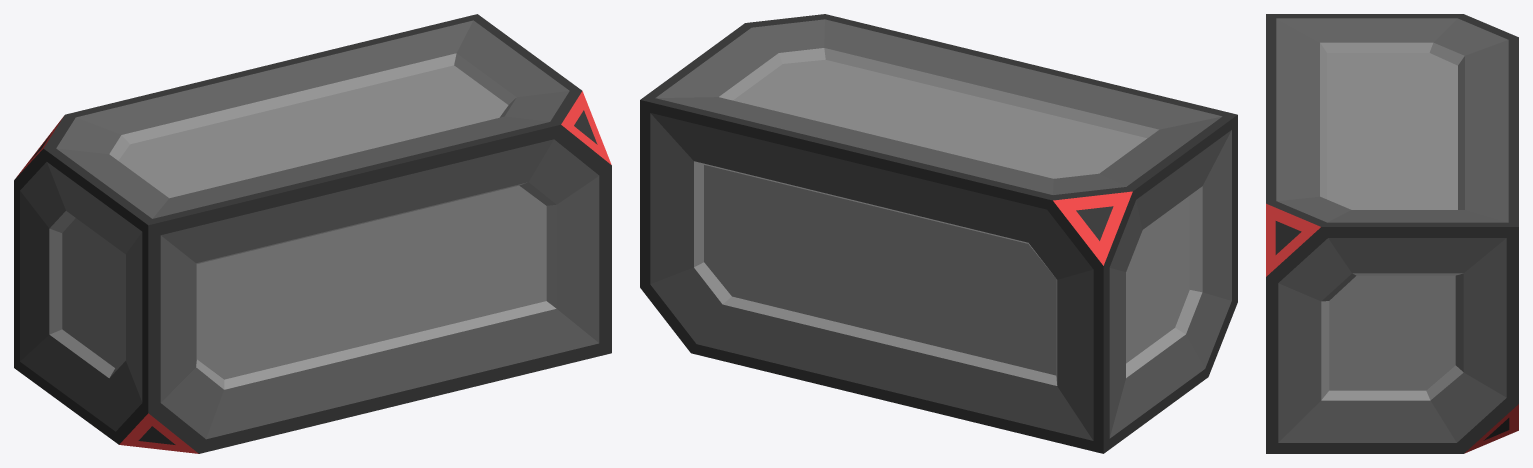
Rendered from Container_Large.fbx.
3 renders of one model, left to right at view 1: azimuth 30°, elevation 25°; view 2: azimuth 150°, elevation 25°; view 3: azimuth 270°, elevation 25°, orthographic. The views are drawn at different scales.
Visible parts, largest first — view 1: Container_Large; view 2: Container_Large; view 3: Container_Large.
Boxes of the visible parts, x1,y1,x2,y2 form: Container_Large: (14, 14, 611, 453); Container_Large: (640, 14, 1237, 453); Container_Large: (1266, 14, 1518, 453).
Bounding box in the file's own units: 483 × 240 × 242.
